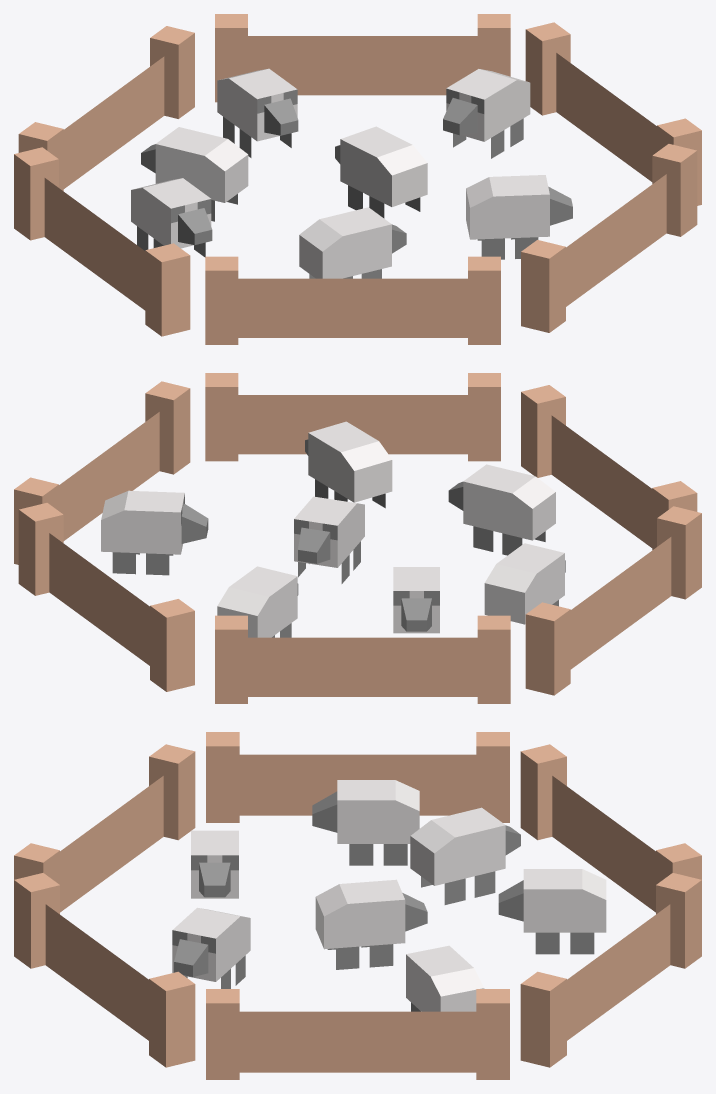
File: Corrallvl3.fbx
The picture shows the model from 3 angles, top to bottom: view 1: azimuth 30°, elevation 25°; view 2: azimuth 150°, elevation 25°; view 3: azimuth 270°, elevation 25°; orthographic projection. The views are drawn at different scales.
Visible parts, largest first — view 1: Fence3, Fence4, Fence2, Fence6, Fence5, Fence1, Sheep4, Sheep6, Sheep3, Sheep5, Sheep1, Sheep2 (+1 smaller); view 2: Fence5, Fence2, Fence4, Fence6, Fence3, Fence1, Sheep5, Sheep3, Sheep4, Sheep7, Sheep6, Sheep2 (+1 smaller); view 3: Fence1, Fence6, Fence2, Fence4, Fence3, Fence5, Sheep6, Sheep1, Sheep2, Sheep7, Sheep4, Sheep5 (+1 smaller).
Boxes of the visible parts, box(x1,y1,x2,y2) form: Fence3: box(205, 256, 500, 344); Fence4: box(215, 14, 510, 102); Fence2: box(521, 144, 697, 332); Fence6: box(14, 147, 190, 336); Fence5: box(18, 26, 194, 190); Fence1: box(525, 22, 701, 205); Sheep4: box(466, 175, 572, 259); Sheep6: box(335, 126, 427, 218); Sheep3: box(299, 207, 406, 278); Sheep5: box(443, 69, 530, 158); Sheep1: box(141, 127, 248, 221); Sheep2: box(217, 68, 298, 157); Fence5: box(215, 615, 510, 703); Fence2: box(205, 373, 500, 461); Fence4: box(18, 503, 194, 691); Fence6: box(525, 506, 701, 695); Fence3: box(521, 385, 697, 549); Fence1: box(14, 381, 190, 564); Sheep5: box(101, 490, 208, 575); Sheep3: box(448, 464, 555, 555); Sheep4: box(305, 421, 392, 508); Sheep7: box(484, 543, 565, 624); Sheep6: box(294, 496, 364, 583); Sheep2: box(217, 566, 298, 637); Fence1: box(206, 989, 509, 1079); Fence6: box(206, 732, 509, 822); Fence2: box(14, 873, 195, 1067); Fence4: box(520, 873, 701, 1067); Fence3: box(14, 744, 195, 912); Fence5: box(520, 744, 701, 912); Sheep6: box(315, 879, 427, 969); Sheep1: box(410, 807, 520, 904); Sheep2: box(498, 869, 606, 954); Sheep7: box(312, 780, 419, 865); Sheep4: box(172, 907, 250, 988); Sheep5: box(406, 945, 484, 1011).
Bounding box in the file's own units: 95 × 12.5 × 102.
